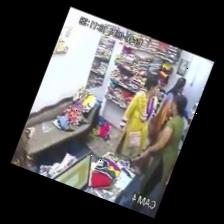person: (133, 94, 186, 197), (115, 75, 159, 159), (148, 78, 185, 145), (148, 78, 185, 144)
